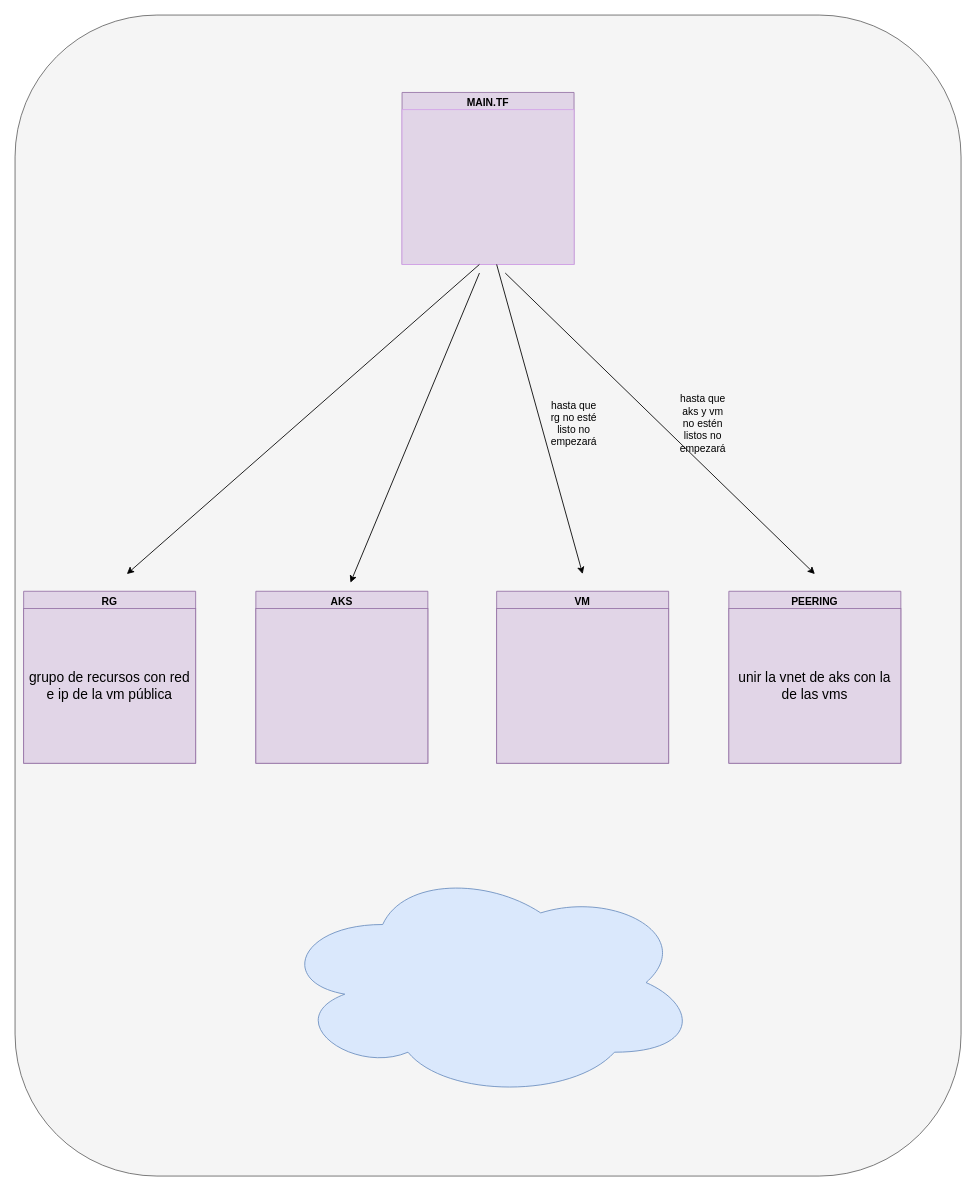
Image size: 976x1191. Some labels were removed from this diagram. Each missing label, with the centre of its shape:
"AZURE" goes at pixel 487 982.
"clúster de aks escalable a 2 nodos y acr" goes at pixel 341 685.
"El que llama a todos los módulos" goes at pixel 487 186.
"máquina privada y máquina pública con opción de conectarse a la privada" goes at pixel 582 685.
